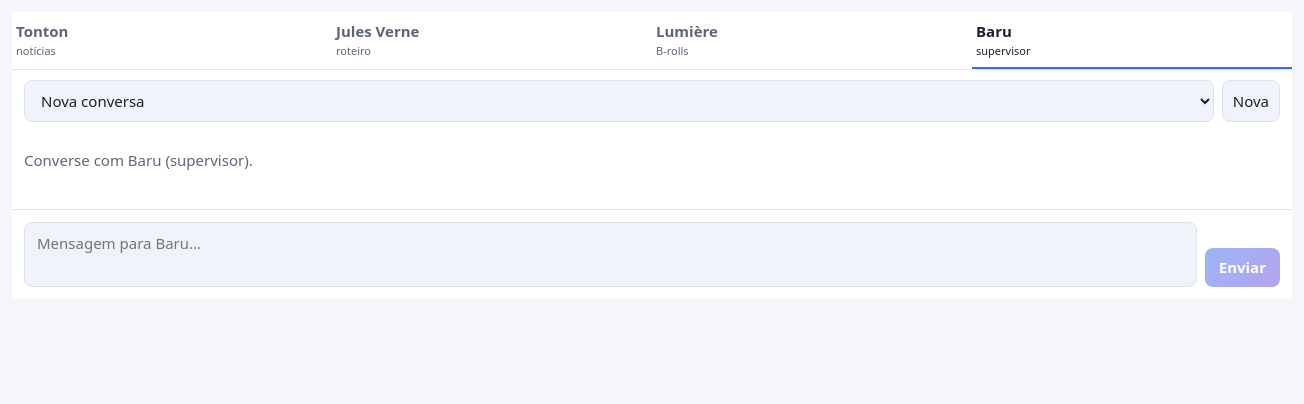
Test: segunda mensagem na mesma conversa volta a consultar e mostra a resposta (regressão: ficava "respondendo…" para sempre)
The width and height of the screenshot is (1304, 404).
Select "t" in the dropdown named "Conversas anteriores". click: [619, 101]
box: 24,80 -> 1214,122
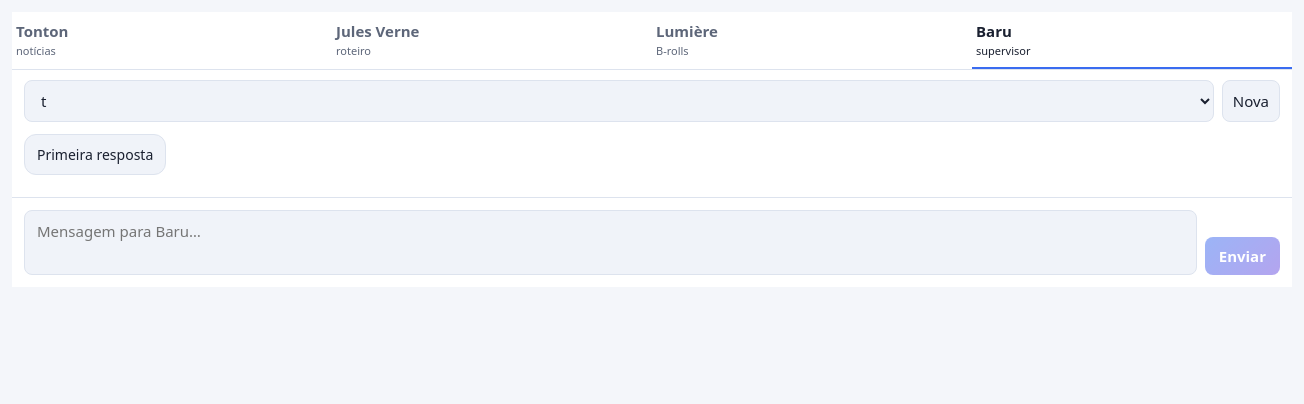
Result: the text "Primeira resposta" is shown at 24,134 -> 166,175
Type "e agora?" into the text box labelled "Mensagem". click: [610, 242]
box: 24,210 -> 1197,275
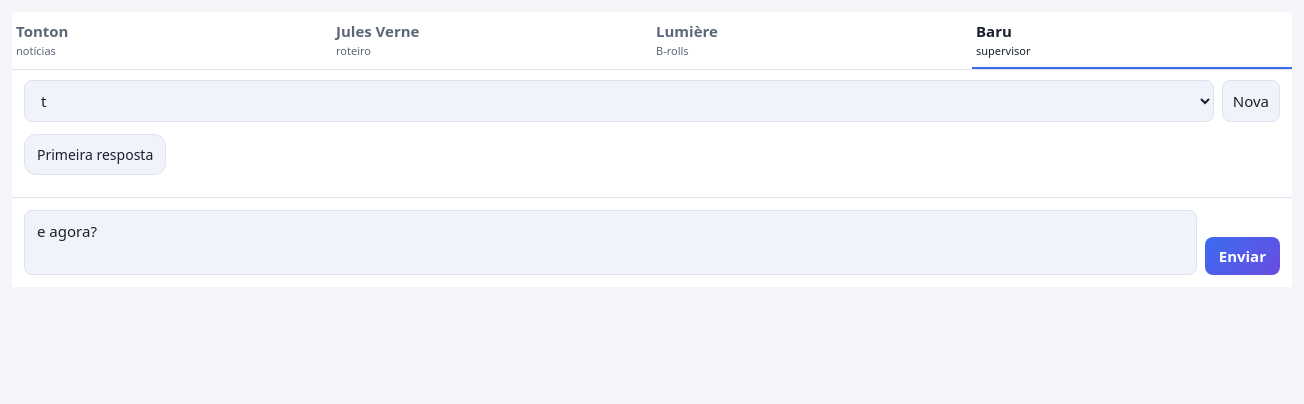
Click the button "Enviar". click: [1242, 256]
box: 1205,236 -> 1280,275
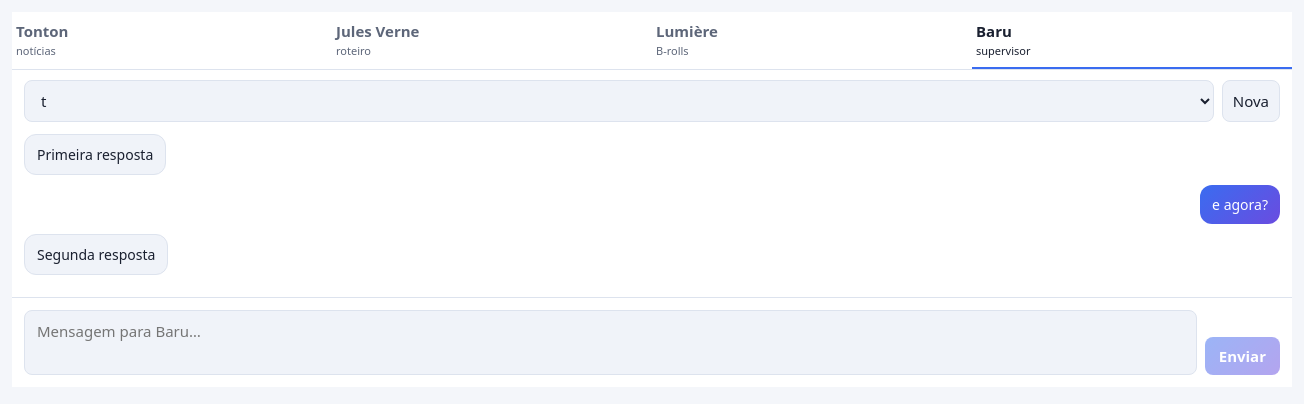
Result: the text "Segunda resposta" is shown at 24,234 -> 168,275
